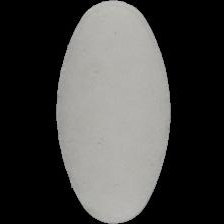54868-1873: (0, 0, 224, 224)
